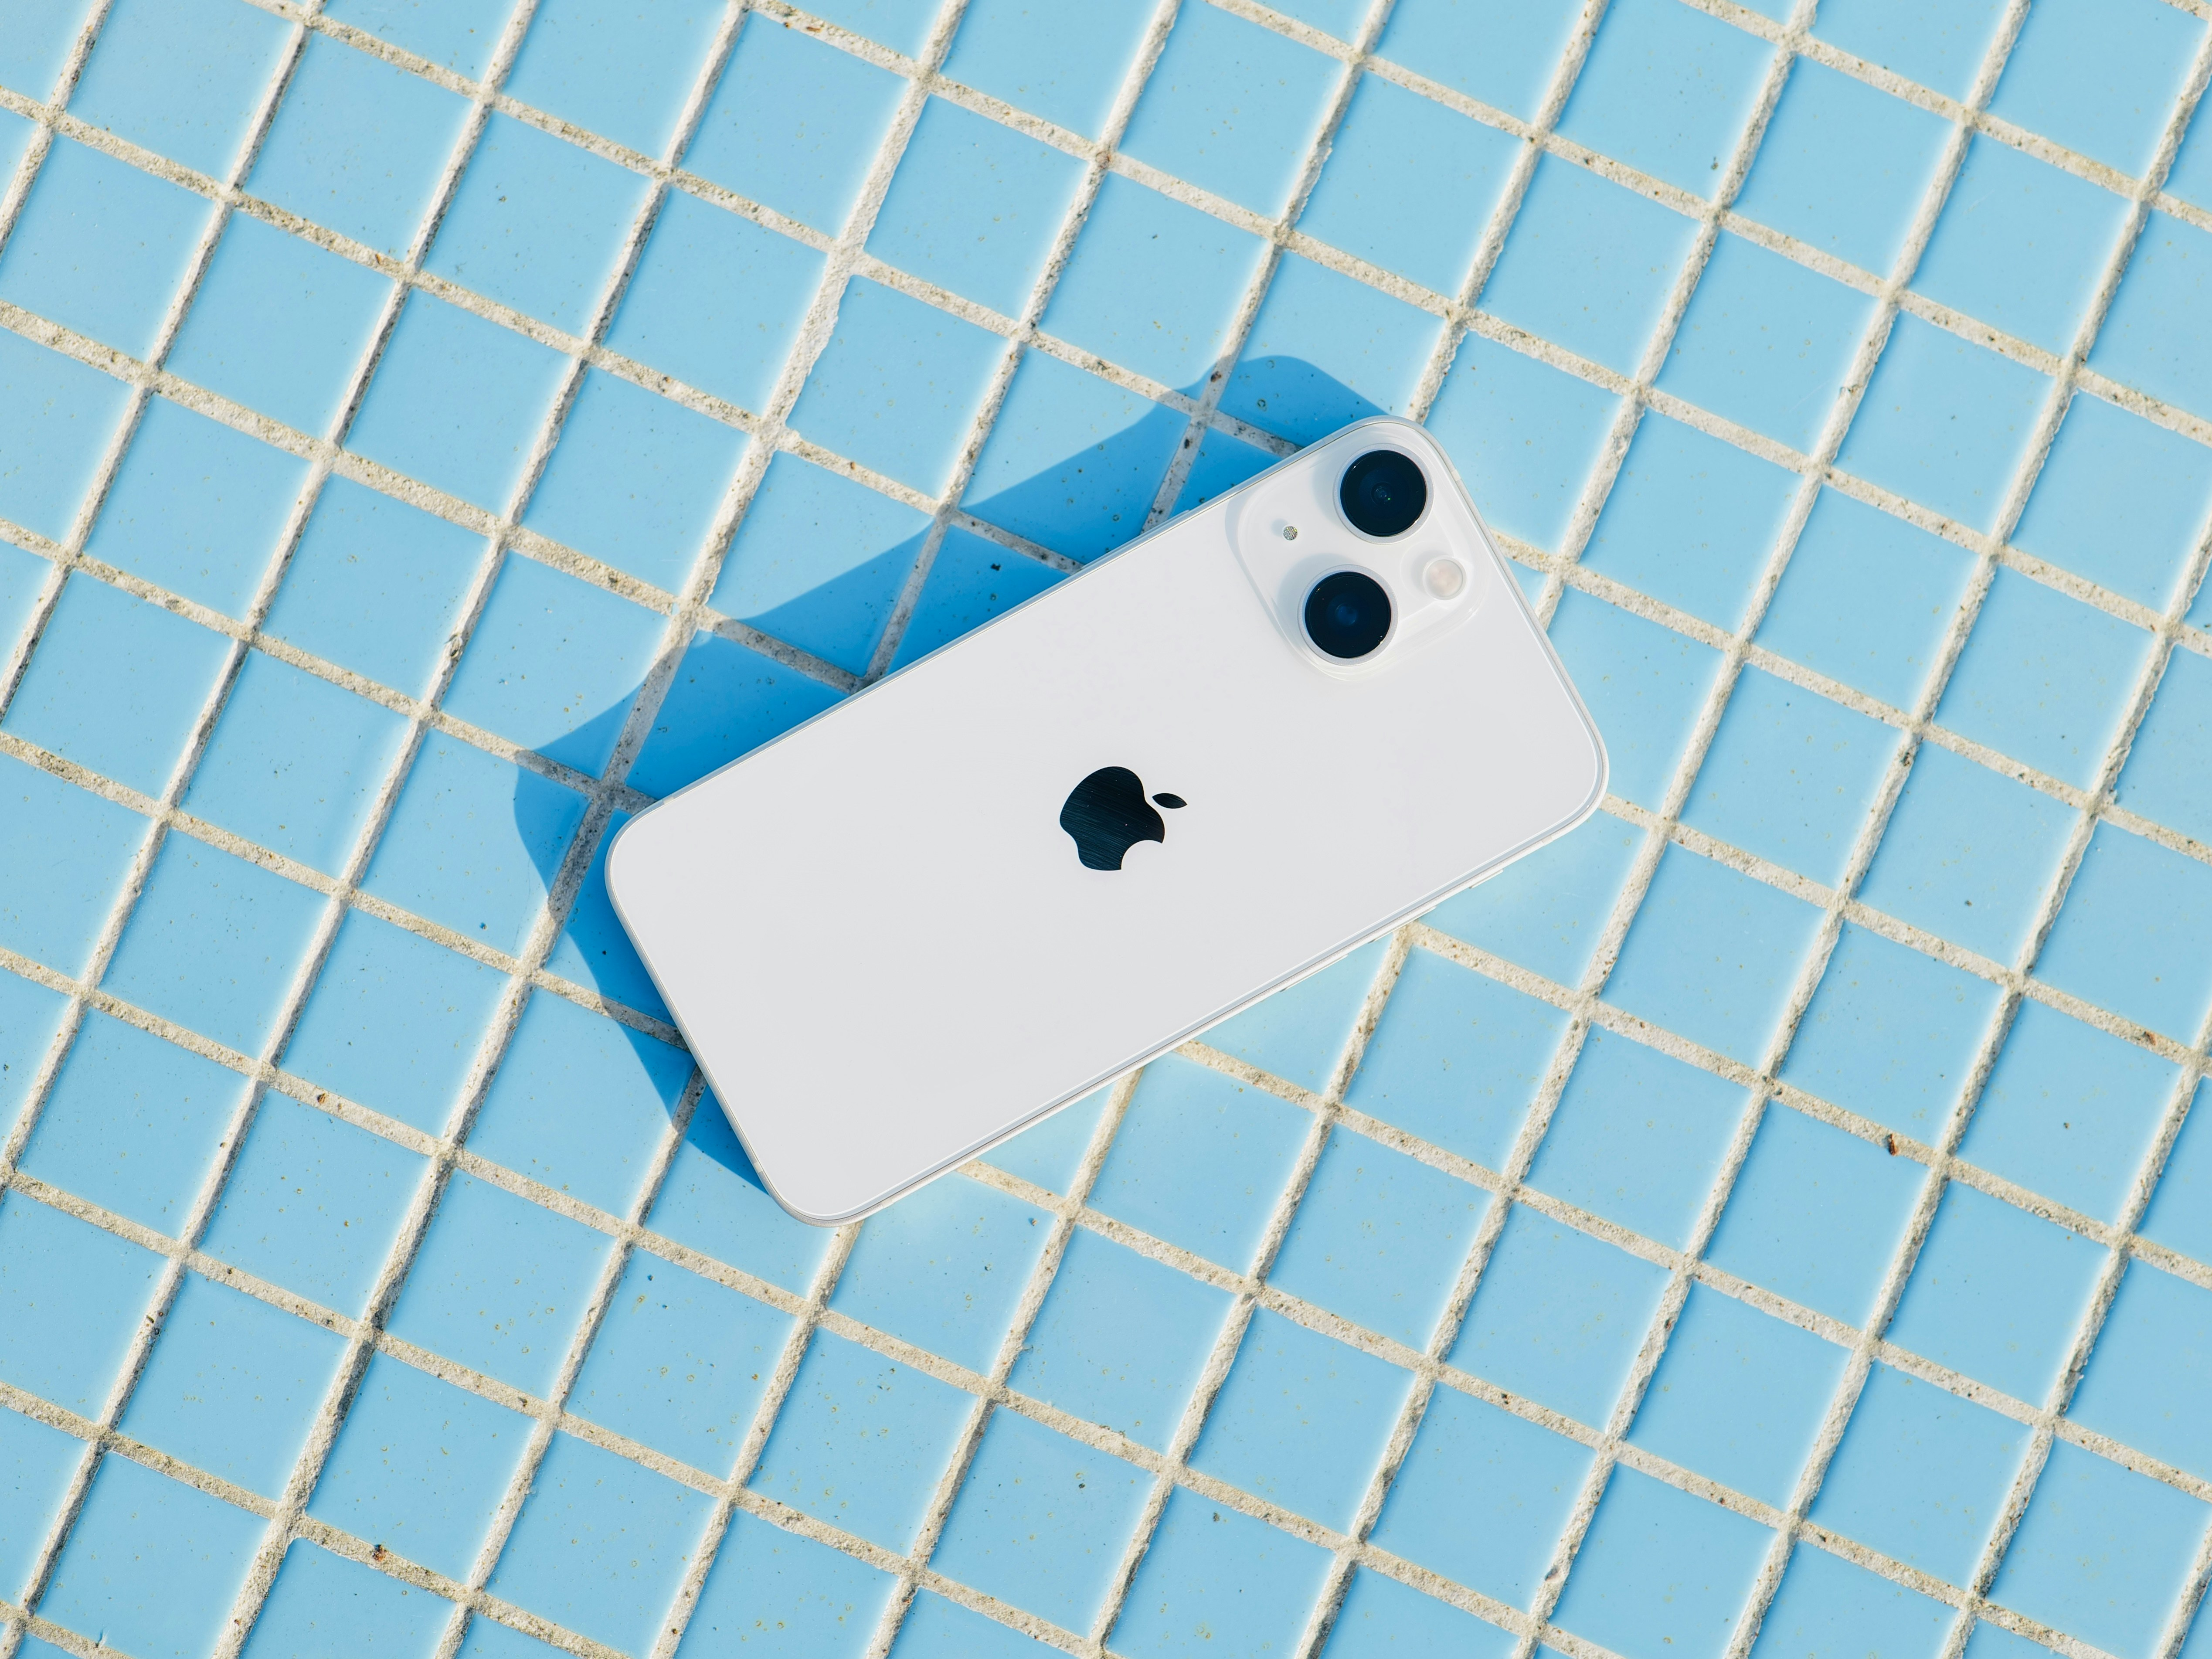p6: (590, 406, 1629, 1234)
